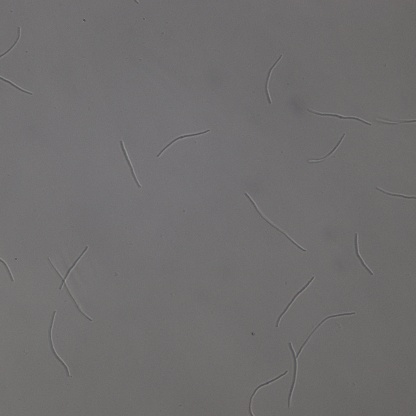Sensitive: (286, 312, 354, 406), (246, 192, 305, 250), (49, 246, 89, 320), (245, 371, 286, 416), (276, 277, 313, 324), (46, 311, 69, 374), (159, 127, 210, 153), (309, 108, 371, 129), (310, 134, 346, 162), (264, 55, 282, 102), (122, 142, 140, 187), (353, 233, 373, 273), (1, 24, 20, 63), (377, 188, 416, 204), (1, 75, 31, 94)
